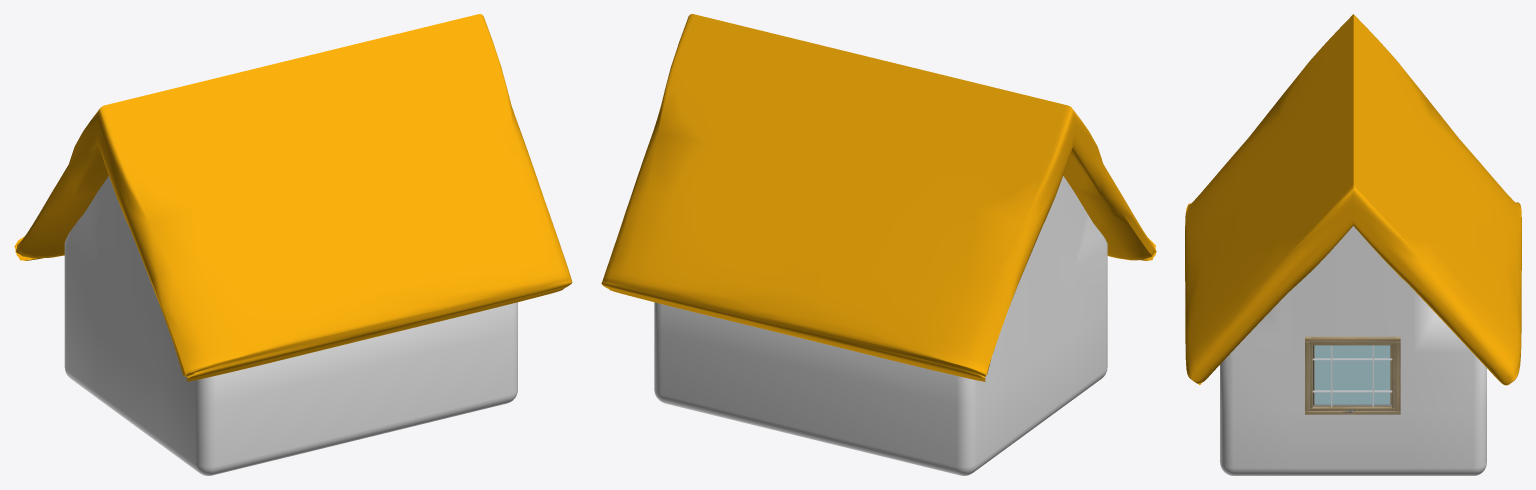
File: home.glb
3 renders of one model, left to right at view 1: azimuth 30°, elevation 25°; view 2: azimuth 150°, elevation 25°; view 3: azimuth 270°, elevation 25°, orthographic. The views are drawn at different scales.
Visible parts, largest first — view 1: Cube.1, Cube; view 2: Cube.1, Cube; view 3: Cube.1, Cube, Plane, F_V_P, Front fillet, F_V_L, T_H.
Part boxes in pixels (x1,y1,x2,y2): Cube.1: (14, 14, 572, 381); Cube: (64, 176, 517, 475); Cube.1: (601, 14, 1156, 381); Cube: (654, 176, 1107, 475); Cube.1: (1185, 14, 1521, 385); Cube: (1220, 226, 1486, 475); Plane: (1314, 345, 1390, 404); F_V_P: (1305, 336, 1400, 341); Front fillet: (1312, 344, 1392, 408); F_V_L: (1305, 411, 1400, 414); T_H: (1390, 344, 1395, 408).
Size of what is drawn, in the model's own units: 121 by 98.85 by 97.89.
11 materials, 1 textured.
